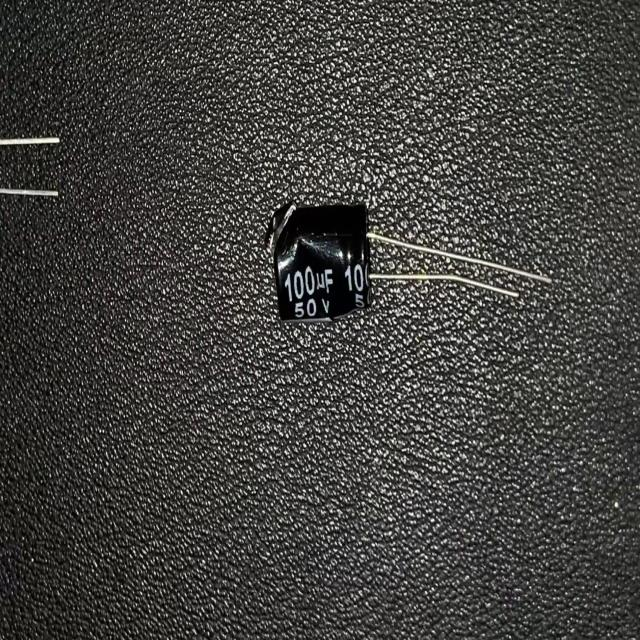capacitor: (263, 202, 554, 326)
cracked: (278, 236, 344, 287), (264, 206, 300, 271)
